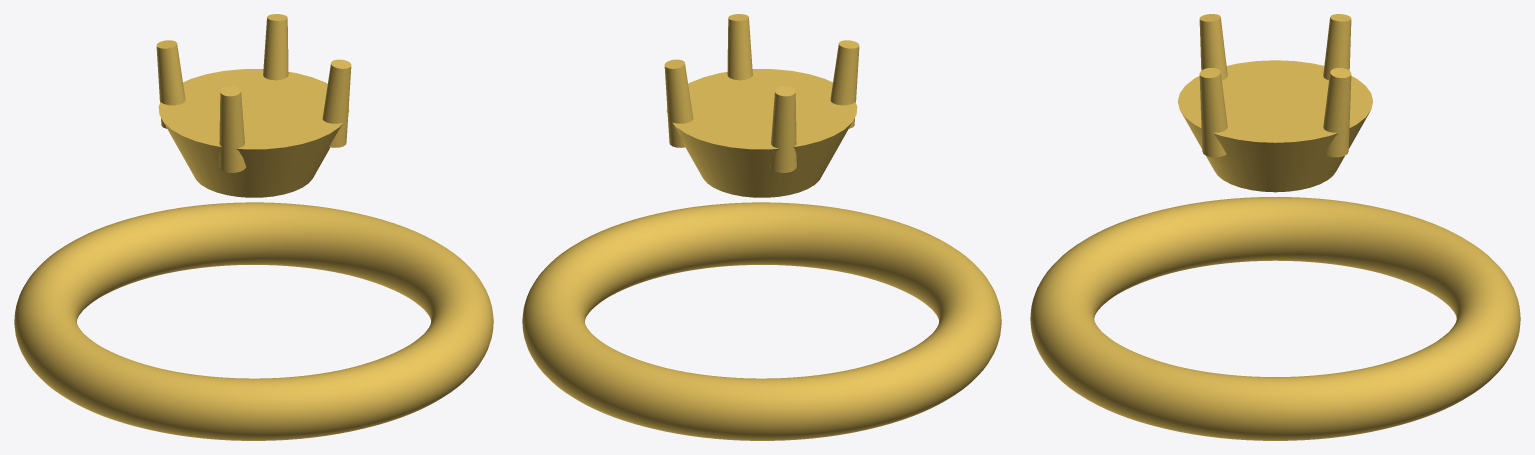
File: sample_ring.glb
3 views of the same model, side by side, from view 1: azimuth 30°, elevation 25°; view 2: azimuth 150°, elevation 25°; view 3: azimuth 270°, elevation 25° (orthographic). The views are drawn at different scales.
Visible parts, largest first — view 1: CAD_Jewellery_Setting; view 2: CAD_Jewellery_Setting; view 3: CAD_Jewellery_Setting.
Boxes of the visible parts, x1,y1,x2,y2 form: CAD_Jewellery_Setting: [14, 14, 493, 440]; CAD_Jewellery_Setting: [522, 14, 1001, 440]; CAD_Jewellery_Setting: [1030, 14, 1520, 440].
Bounding box in the file's own units: 2.76 × 1.88 × 2.76.
